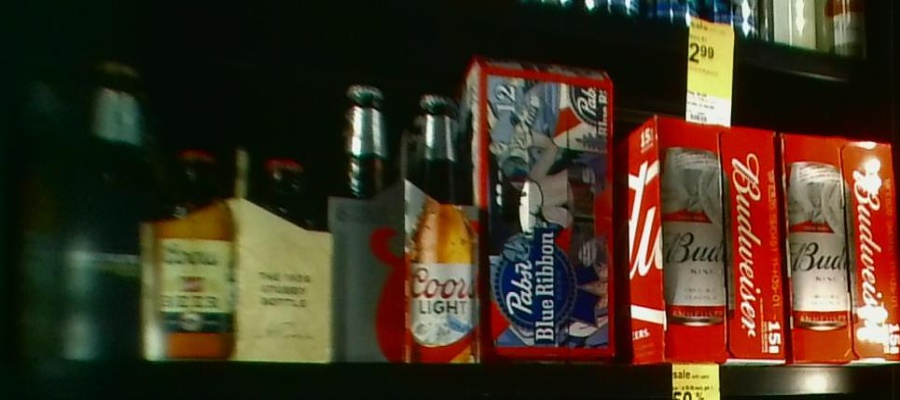bottle: (3, 47, 144, 361), (474, 57, 616, 363), (330, 78, 480, 363), (146, 140, 331, 361), (620, 110, 780, 365), (780, 133, 900, 367)
